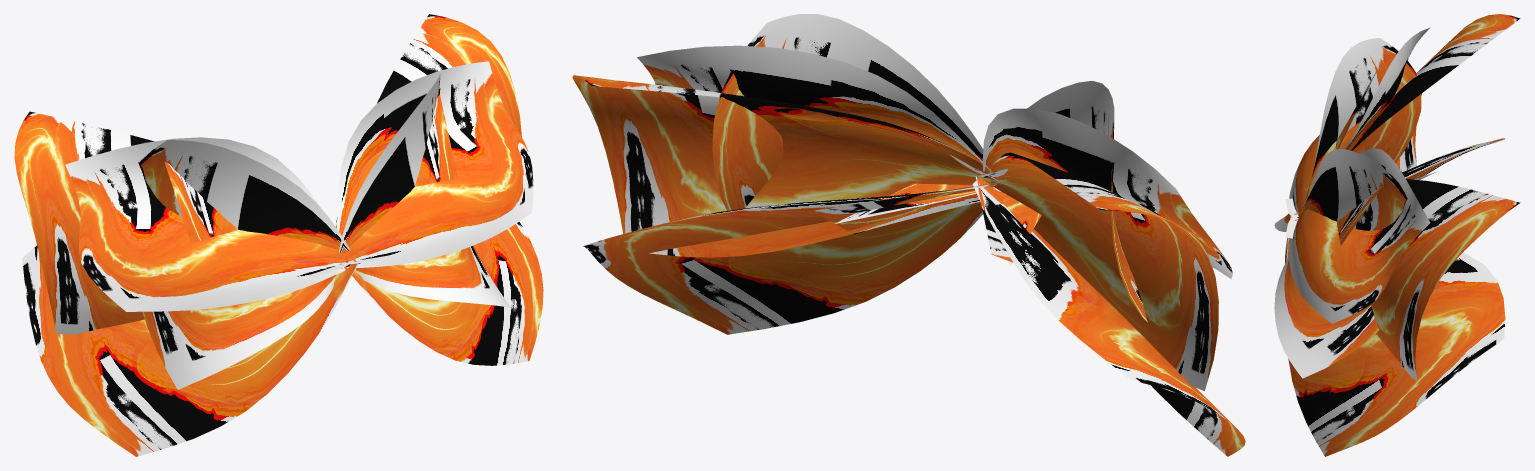
File: fx_wing_e.FBX
3 renders of one model, left to right at view 1: azimuth 30°, elevation 25°; view 2: azimuth 150°, elevation 25°; view 3: azimuth 270°, elevation 25°, orthographic. The views are drawn at different scales.
Visible parts, largest first — view 1: Plane0.06, Plane0.2, Plane22, Plane21, Plane23, Plane20, Plane19, Plane01, Plane0.08, Plane0.04; view 2: Plane01, Plane20, Plane23, Plane0.2, Plane19, Plane22, Plane0.06, Plane21, Plane0.05, Plane0.03, Plane0.07; view 3: Plane20, Plane19, Plane0.2, Plane01, Plane21, Plane23, Plane0.06, Plane22, Plane0.04, Plane0.08.
Part boxes in pixels (bbox=[...]): Plane0.06: bbox=[65, 137, 347, 311]; Plane0.2: bbox=[337, 61, 533, 268]; Plane22: bbox=[22, 245, 357, 456]; Plane21: bbox=[139, 140, 349, 389]; Plane23: bbox=[14, 111, 154, 334]; Plane20: bbox=[340, 222, 543, 365]; Plane19: bbox=[339, 74, 511, 308]; Plane01: bbox=[338, 14, 521, 250]; Plane0.08: bbox=[164, 161, 238, 242]; Plane0.04: bbox=[415, 94, 457, 186]; Plane01: bbox=[572, 75, 991, 257]; Plane20: bbox=[583, 182, 996, 334]; Plane23: bbox=[991, 152, 1218, 391]; Plane0.2: bbox=[637, 45, 992, 172]; Plane19: bbox=[712, 14, 983, 210]; Plane22: bbox=[972, 178, 1245, 456]; Plane0.06: bbox=[982, 108, 1232, 278]; Plane21: bbox=[1027, 81, 1147, 322]; Plane0.05: bbox=[812, 182, 999, 234]; Plane0.03: bbox=[835, 183, 996, 223]; Plane0.07: bbox=[994, 189, 1041, 266]; Plane20: bbox=[1286, 212, 1505, 456]; Plane19: bbox=[1274, 149, 1406, 378]; Plane0.2: bbox=[1289, 148, 1430, 323]; Plane01: bbox=[1371, 179, 1520, 380]; Plane21: bbox=[1274, 38, 1421, 231]; Plane23: bbox=[1347, 14, 1520, 172]; Plane0.06: bbox=[1289, 27, 1430, 216]; Plane22: bbox=[1285, 138, 1504, 263]; Plane0.04: bbox=[1337, 185, 1382, 245]; Plane0.08: bbox=[1335, 65, 1379, 149].
Bounding box in the file's own units: 10781 × 5975 × 4968.
